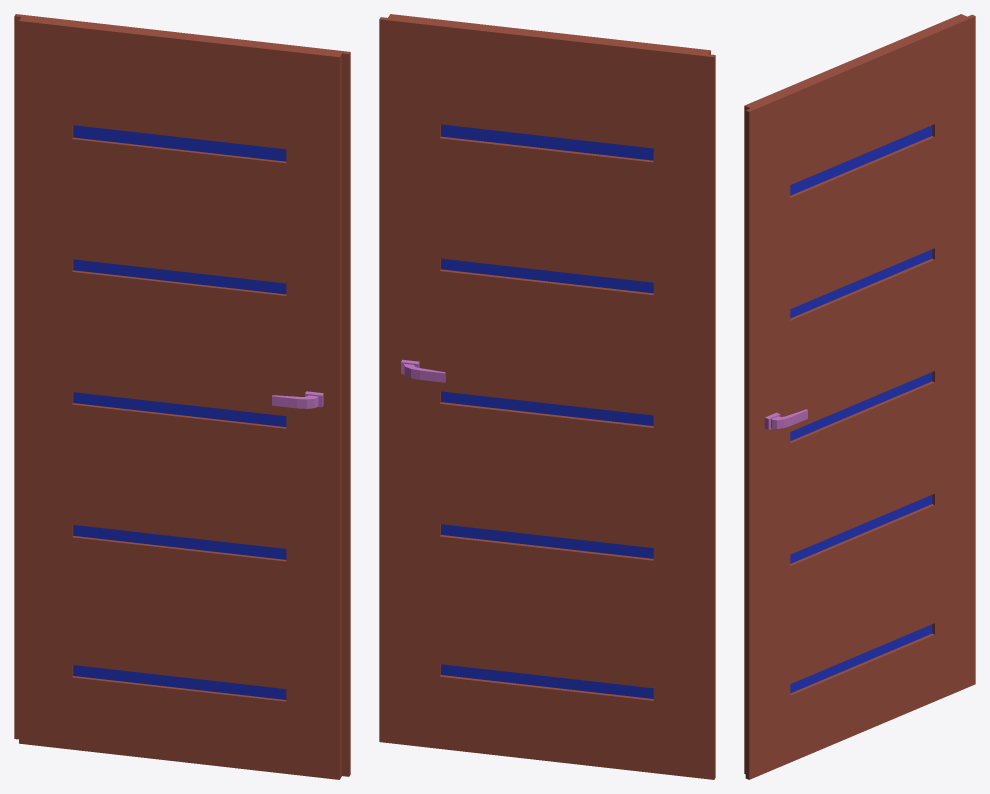
Rendered from Door2.obj.
3 views of the same model, side by side, from view 1: azimuth 30°, elevation 25°; view 2: azimuth 210°, elevation 25°; view 3: azimuth 270°, elevation 25° (orthographic). The views are drawn at different scales.
Parts seen in each view (by area): view 1: door_wing.010_Cube.054; view 2: door_wing.010_Cube.054; view 3: door_wing.010_Cube.054.
Boxes of the visible parts, x1,y1,x2,y2 form: door_wing.010_Cube.054: (14, 14, 350, 779); door_wing.010_Cube.054: (379, 14, 715, 779); door_wing.010_Cube.054: (744, 14, 975, 779).
Bounding box in the file's own units: 3.14 × 9.98 × 3.14.
